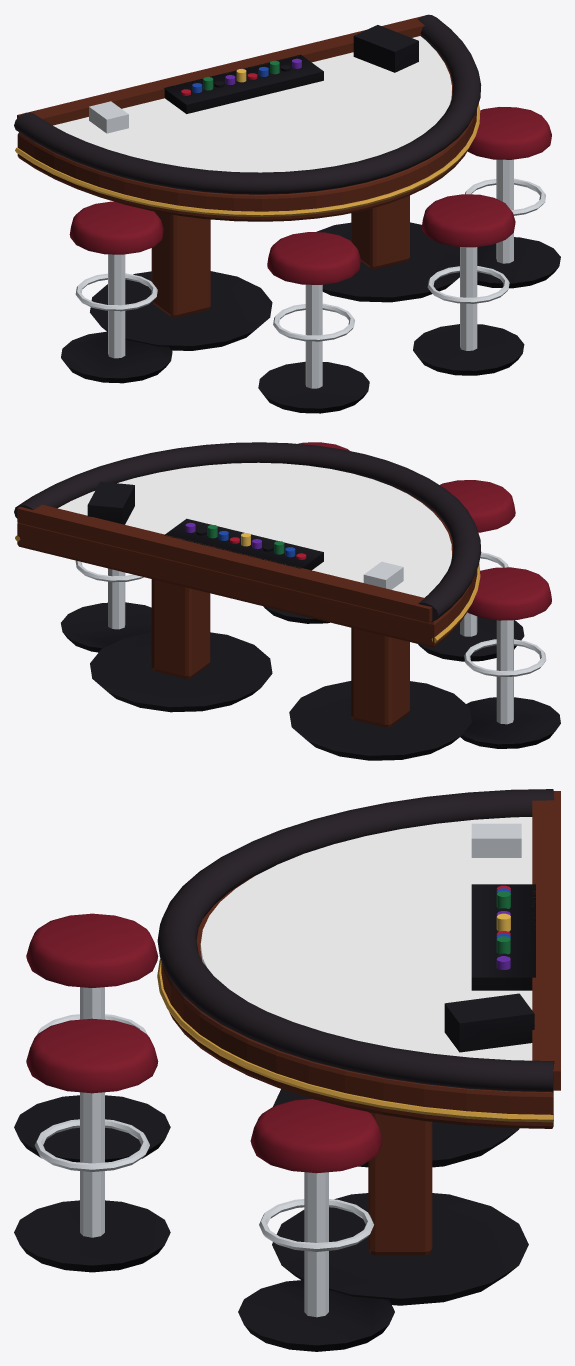
File: table-uth.glb
3 renders of one model, top to bottom at view 1: azimuth 30°, elevation 25°; view 2: azimuth 150°, elevation 25°; view 3: azimuth 270°, elevation 25°, orthographic. The views are drawn at different scales.
Parts seen in each view (by area): view 1: table-uth_lod0; view 2: table-uth_lod0; view 3: table-uth_lod0.
Boxes of the visible parts, x1=… form: table-uth_lod0: x1=14, y1=14, x2=560, y2=413; table-uth_lod0: x1=14, y1=442, x2=560, y2=760; table-uth_lod0: x1=14, y1=789, x2=560, y2=1351.
Size of what is drawn, in the model's own units: 2.19 by 0.8496 by 1.53.
